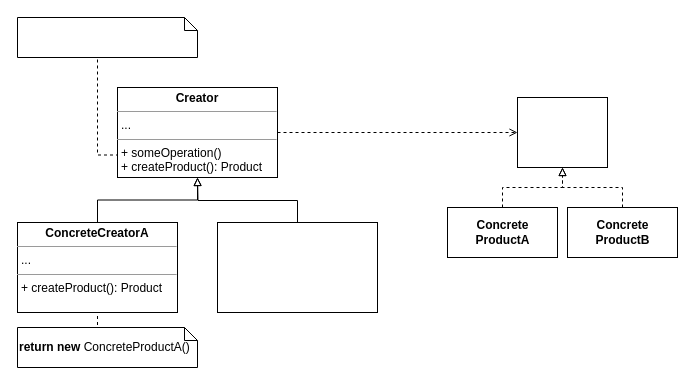
Some shapes in this 695 by 385 pixel diagram are drawn without their labels. Each missing label, with the centre of its shape:
"<<Interface>> Product + doStuff()" belongs at (562,132).
"ConcreteCreatorB ... + createProduct(): Product" belongs at (297,267).
"Product p = createProduct() p.doStuff()" belongs at (107,37).
